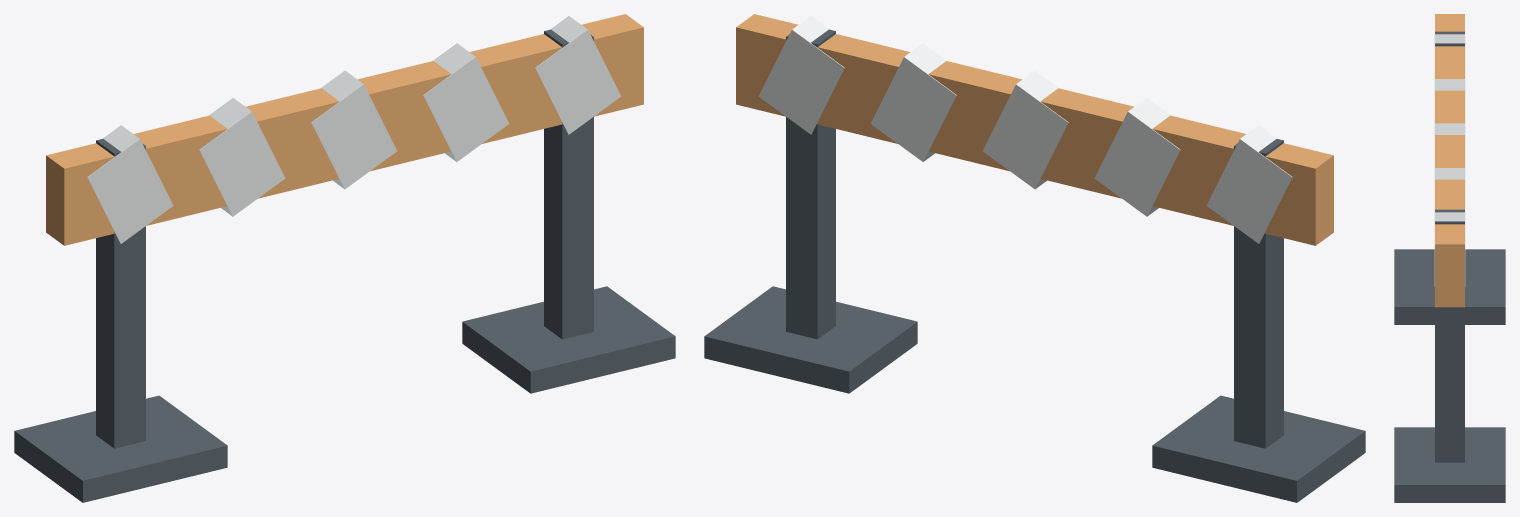
File: barrier_lod1.glb
The picture shows the model from 3 angles, left to right: view 1: azimuth 30°, elevation 25°; view 2: azimuth 150°, elevation 25°; view 3: azimuth 270°, elevation 25°; orthographic projection. The views are drawn at different scales.
Parts seen in each view (by area): view 1: part_0, part_7, part_9, part_8, part_6, part_4, part_2, part_3, part_1, part_5; view 2: part_0, part_7, part_9, part_8, part_6, part_4, part_2, part_3, part_1, part_5; view 3: part_9, part_0, part_7, part_8, part_3, part_5, part_2, part_4, part_1, part_6.
Boxes of the visible parts, bbox=[...] form: part_0: bbox=[46, 14, 643, 245]; part_7: bbox=[14, 395, 227, 502]; part_9: bbox=[462, 286, 675, 393]; part_8: bbox=[544, 29, 593, 339]; part_6: bbox=[96, 139, 145, 448]; part_4: bbox=[423, 43, 509, 161]; part_2: bbox=[199, 98, 285, 216]; part_3: bbox=[311, 70, 396, 189]; part_1: bbox=[87, 125, 173, 243]; part_5: bbox=[535, 16, 621, 134]; part_0: bbox=[736, 14, 1333, 245]; part_7: bbox=[1152, 395, 1365, 502]; part_9: bbox=[704, 286, 917, 393]; part_8: bbox=[786, 29, 835, 339]; part_6: bbox=[1234, 139, 1283, 448]; part_4: bbox=[870, 43, 956, 161]; part_2: bbox=[1094, 98, 1180, 216]; part_3: bbox=[983, 70, 1068, 189]; part_1: bbox=[1206, 125, 1292, 243]; part_5: bbox=[758, 16, 844, 134]; part_9: bbox=[1394, 427, 1505, 502]; part_0: bbox=[1435, 14, 1464, 307]; part_7: bbox=[1394, 249, 1505, 324]; part_8: bbox=[1435, 209, 1464, 462]; part_3: bbox=[1434, 123, 1465, 167]; part_5: bbox=[1434, 212, 1465, 286]; part_2: bbox=[1434, 79, 1465, 122]; part_4: bbox=[1434, 168, 1465, 211]; part_1: bbox=[1434, 34, 1465, 78]; part_6: bbox=[1435, 31, 1464, 46].
Size of the model in its own units: 2.25 by 1.23 by 0.45.
